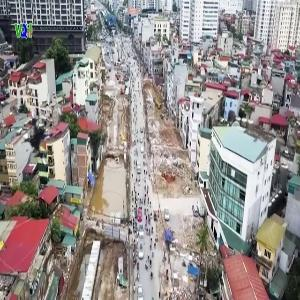drone: (16, 105, 78, 167)
